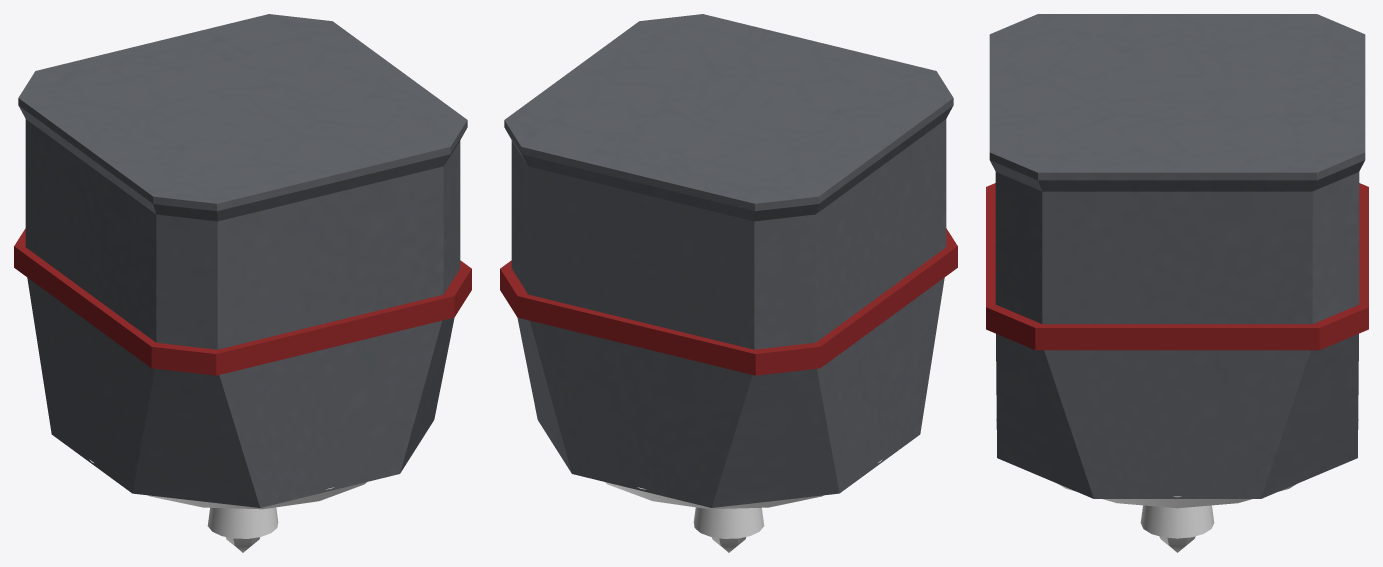
3 renders of one model, left to right at view 1: azimuth 30°, elevation 25°; view 2: azimuth 150°, elevation 25°; view 3: azimuth 270°, elevation 25°, orthographic. The views are drawn at different scales.
Parts seen in each view (by area): view 1: Cube, Booster; view 2: Cube, Booster; view 3: Cube, Booster.
Part boxes in pixels (x1,y1,x2,y2): Cube: (14,14,471,507); Booster: (89,459,366,552); Cube: (500,14,957,507); Booster: (605,459,882,552); Cube: (986,14,1368,498); Booster: (996,419,1358,552).
Size of the model in its own units: 211 by 279 by 211.
Materials: 4 (2 with a texture image).
